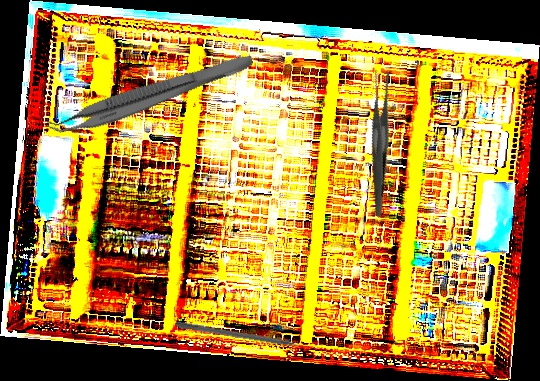Dressing Forceps: (328, 67, 429, 218)
Pusher: (175, 320, 317, 354)
Tissue Forceps: (43, 40, 256, 146)
